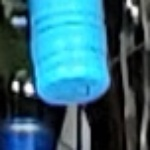bottle: (23, 21, 128, 121)
